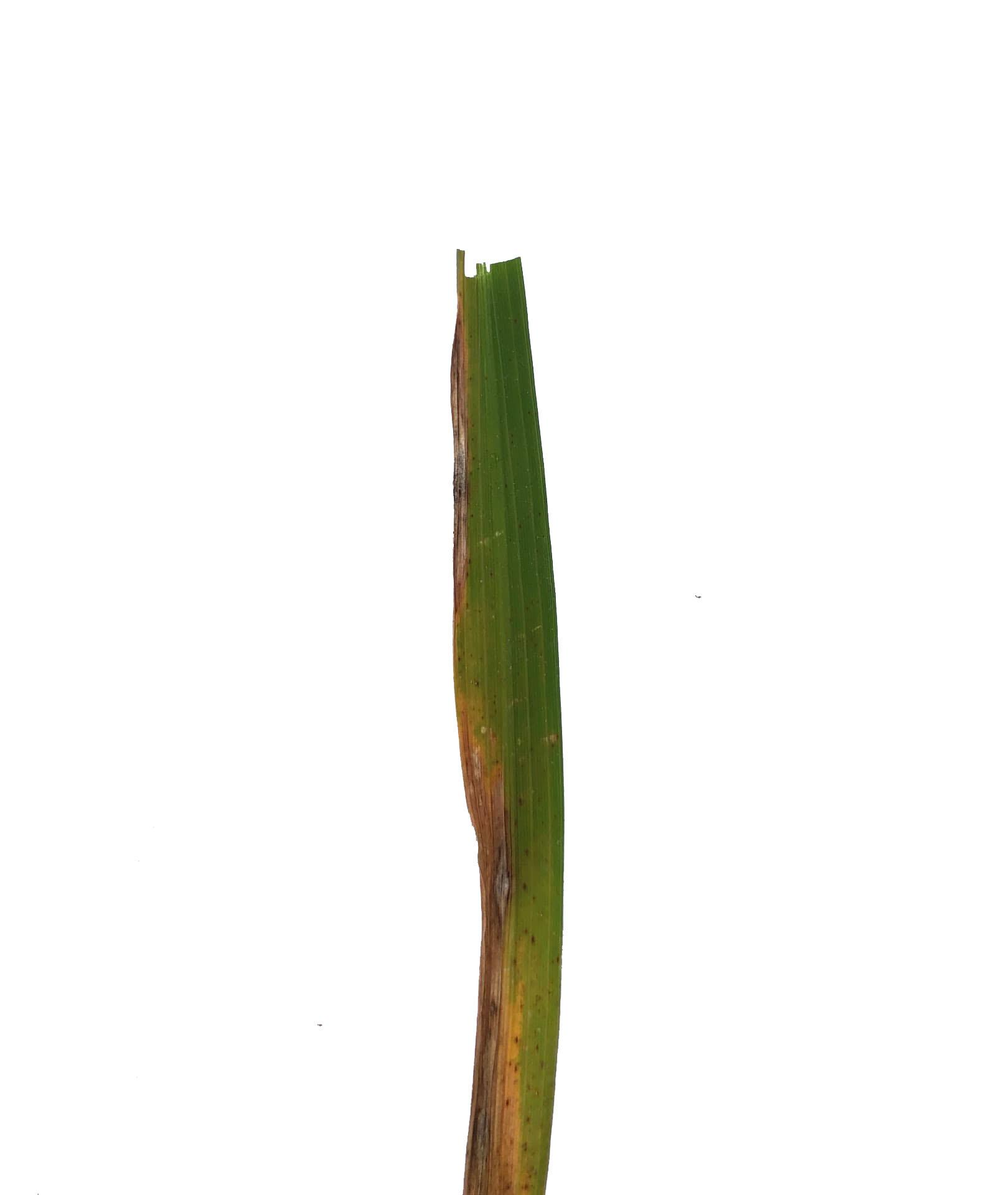Tungro: (450, 254, 567, 1195)
